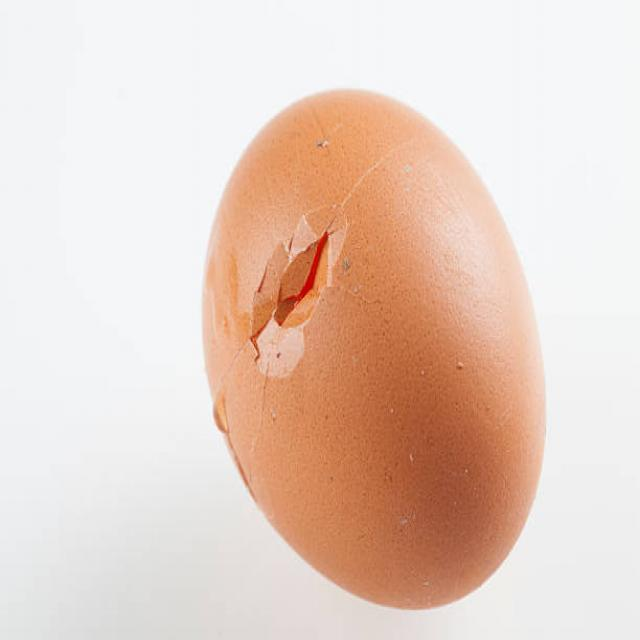biodegradable: (193, 83, 552, 614)
